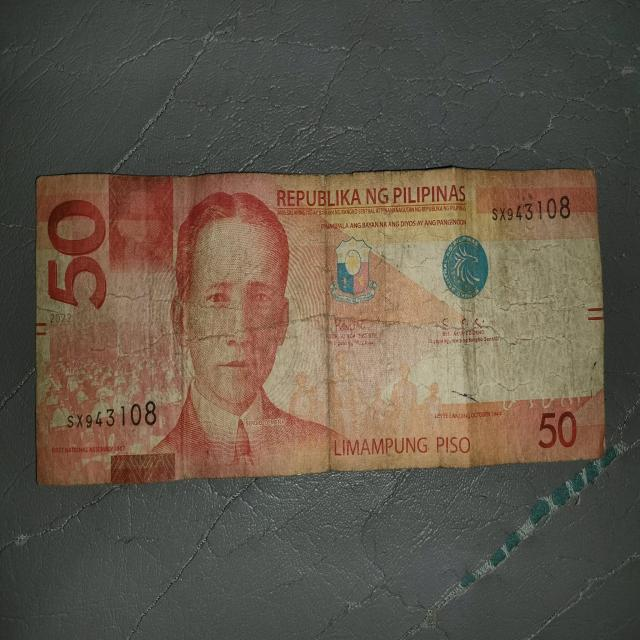notbroken: (35, 165, 608, 488)
